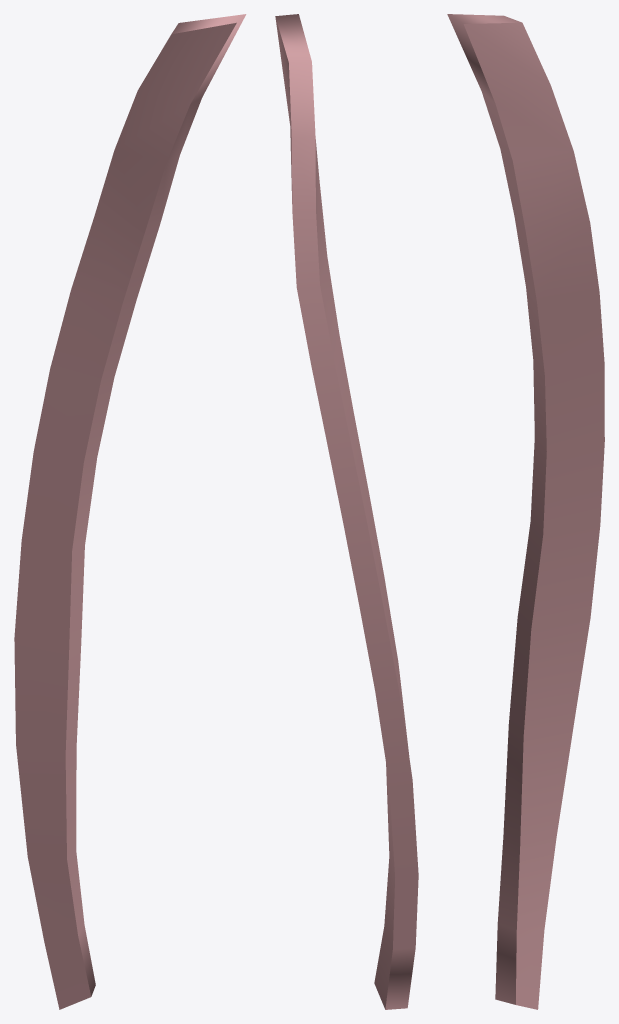
3 views of the same model, side by side, from view 1: azimuth 30°, elevation 25°; view 2: azimuth 150°, elevation 25°; view 3: azimuth 270°, elevation 25° (orthographic). The views are drawn at different scales.
Parts seen in each view (by area): view 1: ZA_dd80ed58c464de3a; view 2: ZA_dd80ed58c464de3a; view 3: ZA_dd80ed58c464de3a.
Boxes of the visible parts, box(x1,y1,x2,y2) form: ZA_dd80ed58c464de3a: box(14, 14, 246, 1009); ZA_dd80ed58c464de3a: box(275, 14, 418, 1009); ZA_dd80ed58c464de3a: box(447, 14, 604, 1009).
Size of the model in its own units: 0.0262 by 0.1307 by 0.0175.
